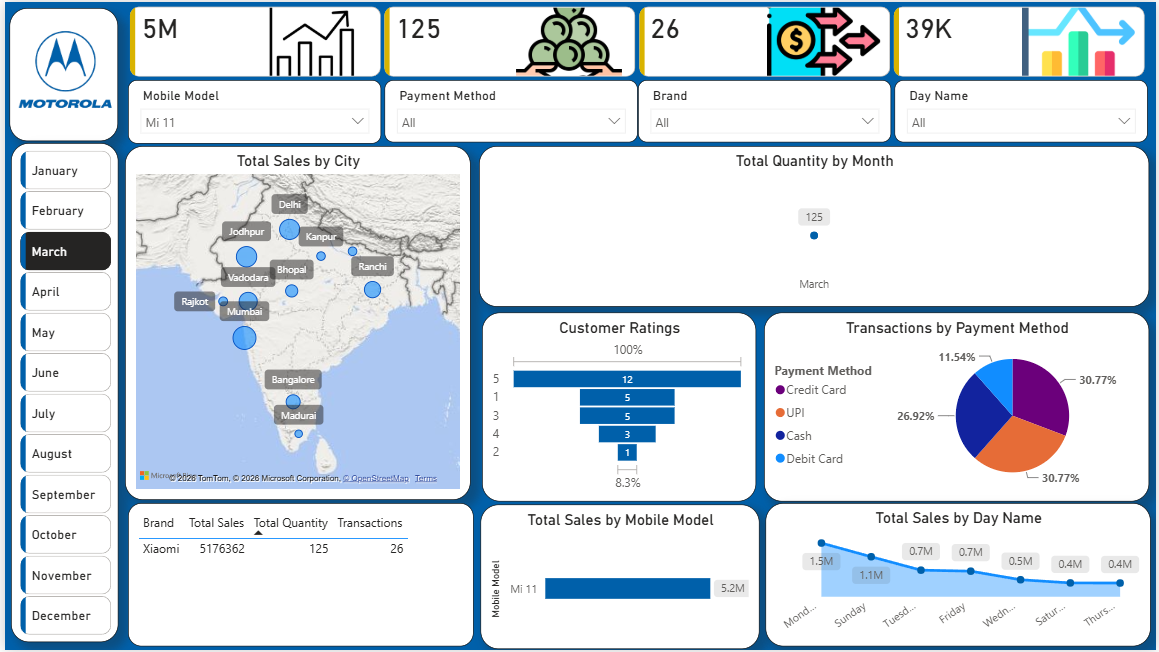

What the dashboard file says about the page in this screenshot:
{"tool":"powerbi","page":{"name":"Page 1","canvas":[1280,720],"ordinal":0},"visuals":[{"type":"shape","box":[5.5,6.9,120.8,148.2],"z":0},{"type":"image","box":[9.6,16.5,113.9,116.6],"z":1000},{"type":"shape","box":[6.9,156.4,119.4,554.4],"z":2000},{"type":"advancedSlicerVisual","fields":{"Values":["Sales_Data.Date.Variation.Date Hierarchy.Month"]},"box":[11,160.5,111.1,548.9],"z":3000},{"type":"cardVisual","fields":{"Data":["Sales_Data.Total Sales","Sales_Data.Total Quantity","Sales_Data.Transactions","Sales_Data.Average"]},"box":[134,5.6,1140.1,83.7],"z":4000},{"type":"map","fields":{"Category":["Sales_Data.City"],"Size":["Sales_Data.Total Sales"]},"box":[132.9,160.8,384.1,393.1],"z":5000},{"type":"lineChart","fields":{"Category":["Sales_Data.Date.Variation.Date Hierarchy.Month","Sales_Data.Date.Variation.Date Hierarchy.Day"],"Y":["Sales_Data.Total Quantity"]},"box":[525.9,160.8,744.8,178.7],"z":6000},{"type":"clusteredBarChart","fields":{"Category":["Sales_Data.Mobile Model"],"Y":["Sales_Data.Total Sales"]},"box":[528.3,558.5,310.1,160.5],"z":7000},{"type":"pieChart","fields":{"Category":["Sales_Data.Payment Method"],"Y":["Sales_Data.Transactions"]},"box":[842.5,344.4,428.1,209.9],"z":8000},{"type":"funnel","title":"Customer Ratings","fields":{"Category":["Sales_Data.Customer Ratings"],"Y":["CountNonNull(Sales_Data.Customer Ratings)"]},"box":[529.7,344.4,304.6,209.9],"z":9000},{"type":"areaChart","fields":{"Category":["Sales_Data.Day Name"],"Y":["Sales_Data.Total Sales"]},"box":[845.3,557.1,428.1,159.2],"z":10000},{"type":"tableEx","fields":{"Values":["Sales_Data.Brand","Sales_Data.Total Sales","Sales_Data.Total Quantity","Sales_Data.Transactions"]},"box":[135.8,557.1,384.2,159.2],"z":11000},{"type":"slicer","fields":{"Values":["Sales_Data.Mobile Model"]},"box":[136.2,87.1,281.4,70.3],"z":12000},{"type":"slicer","fields":{"Values":["Sales_Data.Payment Method"]},"box":[421,87.1,281.4,69.2],"z":13000},{"type":"slicer","fields":{"Values":["Sales_Data.Brand"]},"box":[703.5,87.1,281.4,69.2],"z":14000},{"type":"slicer","fields":{"Values":["Sales_Data.Day Name"]},"box":[988.2,87.1,281.4,69.2],"z":15000}]}

Visuals, with their boxes in screenshot pixels (x1, y1, x2, y2), scaled from the page's 1280x720 canvas onto the 1159x652 screenshot:
shape: l=5, t=6, r=114, b=140
image: l=9, t=15, r=112, b=121
shape: l=6, t=142, r=114, b=644
advancedSlicerVisual - Sales_Data.Date.Variation.Date Hierarchy.Month: l=10, t=145, r=111, b=642
cardVisual - Sales_Data.Total Sales x Sales_Data.Total Quantity: l=121, t=5, r=1154, b=81
map - Sales_Data.City x Sales_Data.Total Sales: l=120, t=146, r=468, b=502
lineChart - Sales_Data.Date.Variation.Date Hierarchy.Month x Sales_Data.Date.Variation.Date Hierarchy.Day: l=476, t=146, r=1151, b=307
clusteredBarChart - Sales_Data.Mobile Model x Sales_Data.Total Sales: l=478, t=506, r=759, b=651
pieChart - Sales_Data.Payment Method x Sales_Data.Transactions: l=763, t=312, r=1150, b=502
"Customer Ratings" funnel: l=480, t=312, r=755, b=502
areaChart - Sales_Data.Day Name x Sales_Data.Total Sales: l=765, t=504, r=1153, b=649
tableEx - Sales_Data.Brand x Sales_Data.Total Sales: l=123, t=504, r=471, b=649
slicer - Sales_Data.Mobile Model: l=123, t=79, r=378, b=143
slicer - Sales_Data.Payment Method: l=381, t=79, r=636, b=142
slicer - Sales_Data.Brand: l=637, t=79, r=892, b=142
slicer - Sales_Data.Day Name: l=895, t=79, r=1150, b=142
